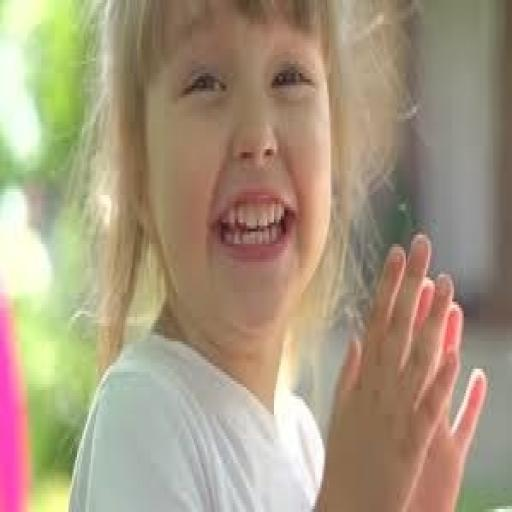clapping: (65, 0, 488, 509)
